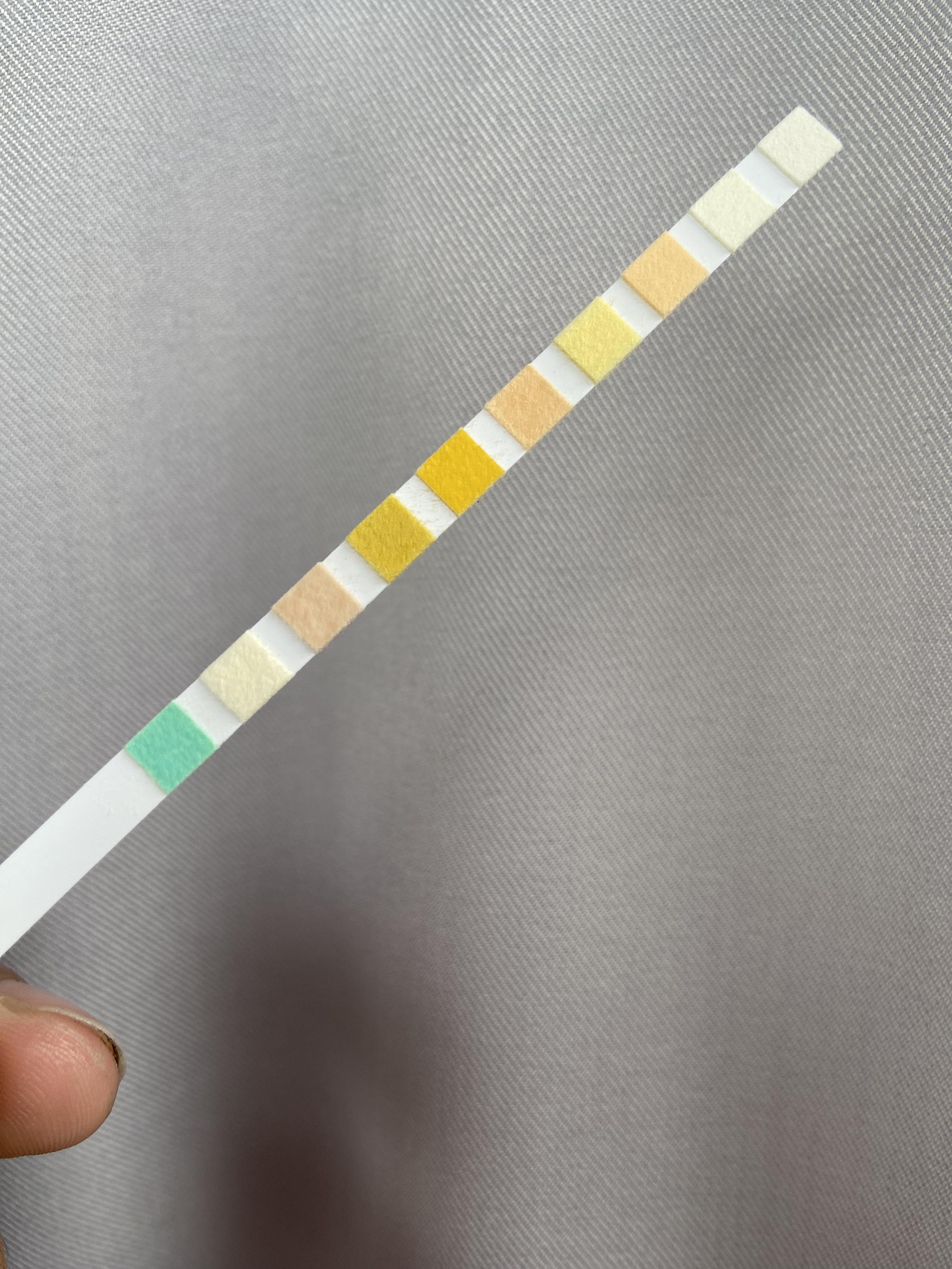Bilirubin: (219, 656, 275, 695)
Blood: (436, 451, 486, 492)
Glucose: (145, 726, 198, 767)
Ketone: (290, 589, 347, 626)
Leukocytes: (779, 124, 823, 168)
Nitrite: (708, 190, 757, 228)
Protein: (571, 321, 624, 357)
SpGravity: (365, 519, 417, 558)
Urobilinogen: (639, 255, 691, 292)
pH: (499, 390, 556, 423)
strip: (2, 102, 844, 962)
